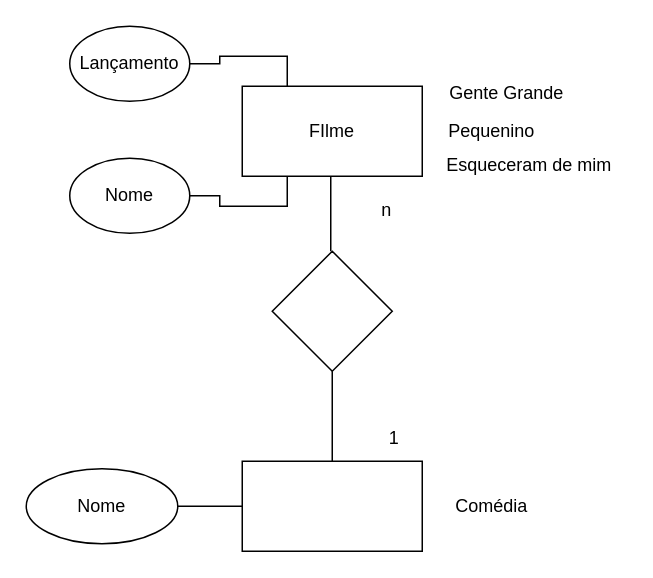
The diagram is 653 pixels wide and 578 high, and some of its shapes have lost their labels. Each missing label, with the centre of its shape:
Genero: (x=331, y=505)
Possui: (x=331, y=310)
